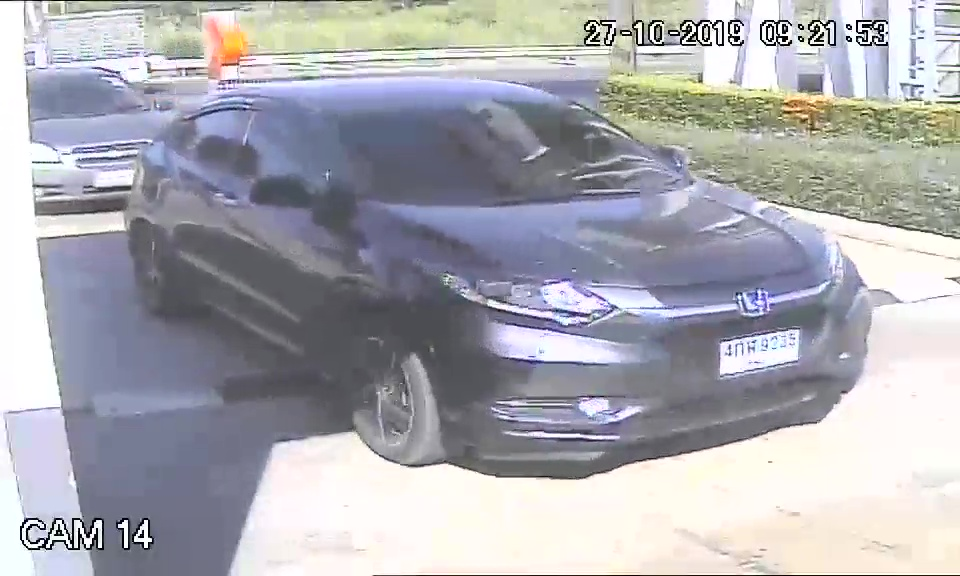sedan: (120, 77, 876, 480)
